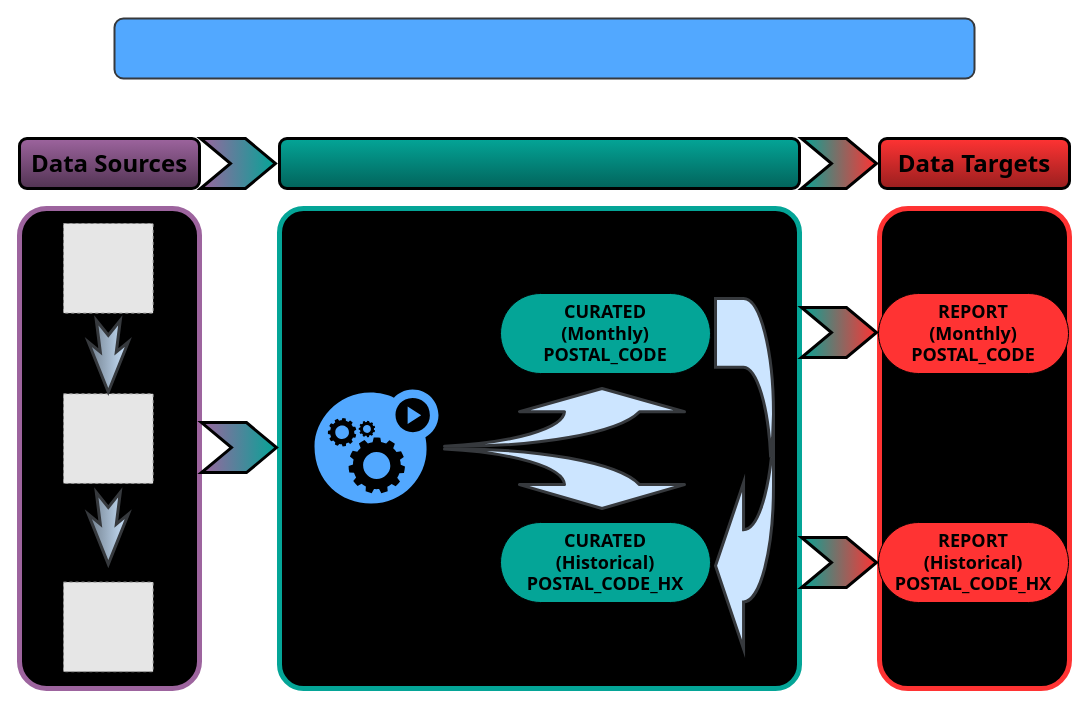
This 1089x708 diagram has some shape labels left out. Grey dashed boxes stand in for pictures. Each missing label, with the box of its shape:
Data Flow (ELT): (278, 136, 800, 190)
Merge: (714, 296, 774, 650)
POSTAL CODE (Snowflake): (113, 17, 975, 79)
